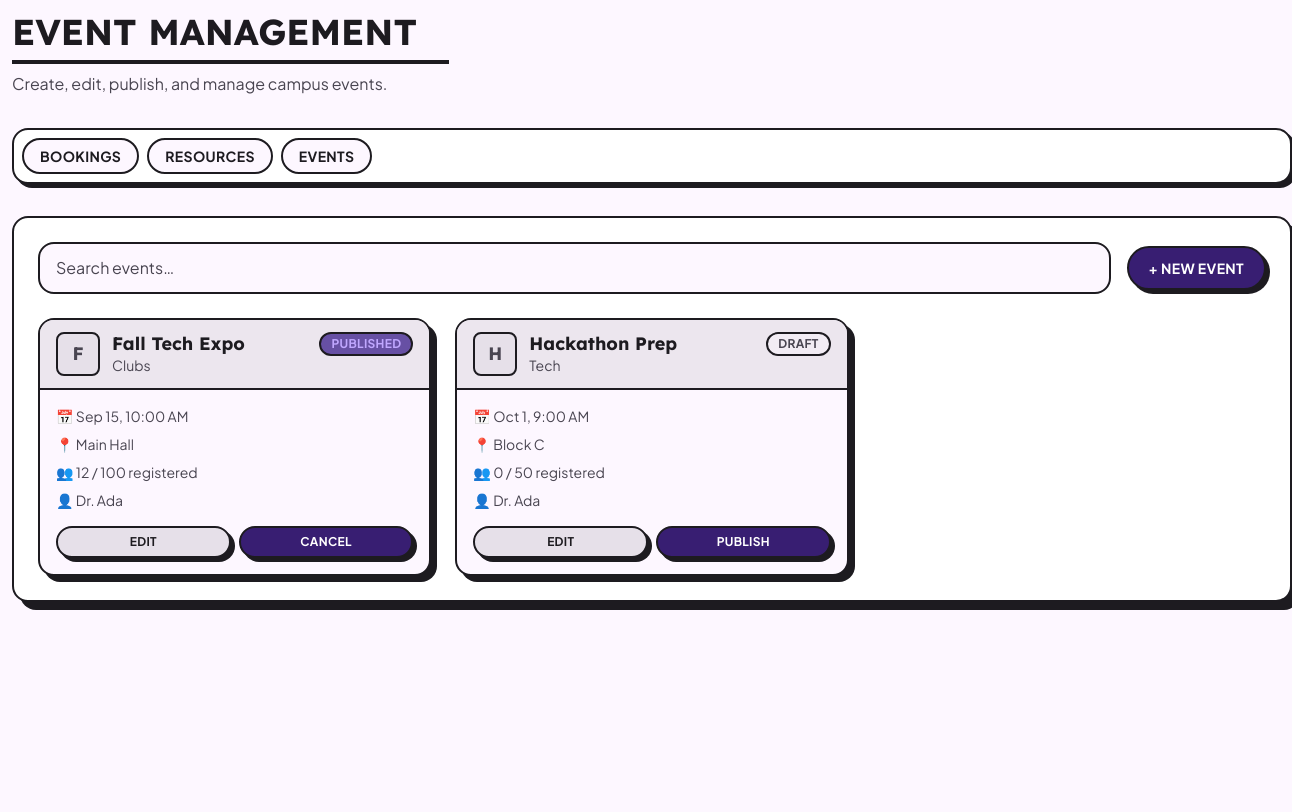
Test: AdminEventsPage › publishes a draft event
The image size is (1292, 812).
Step 1. Click the button "Publish" → click(743, 542), box left=656, top=526, right=831, bottom=558
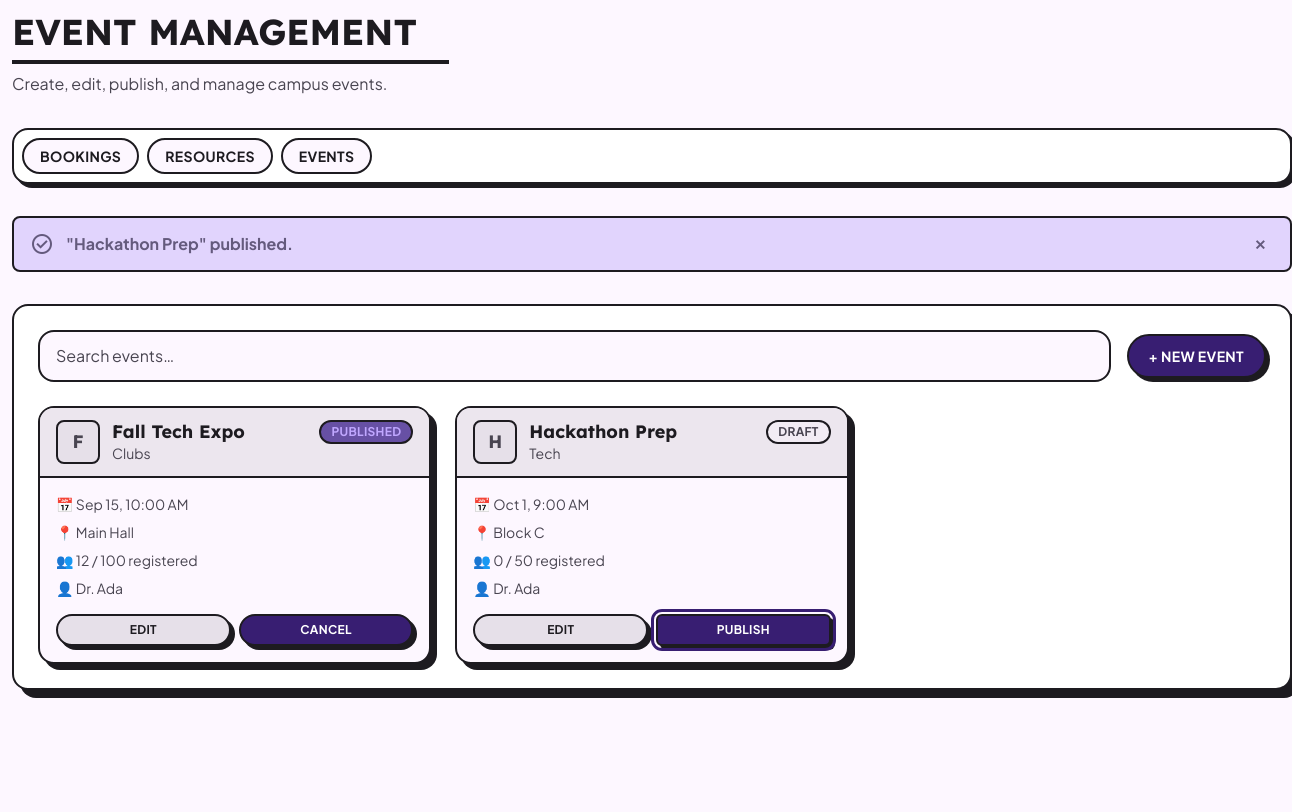
Expected: the text "\"Hackathon Prep\" published." is shown, left=66, top=232, right=293, bottom=256
